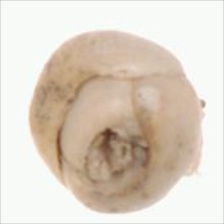L3: (57, 77, 147, 183)
L4: (29, 31, 204, 214)
